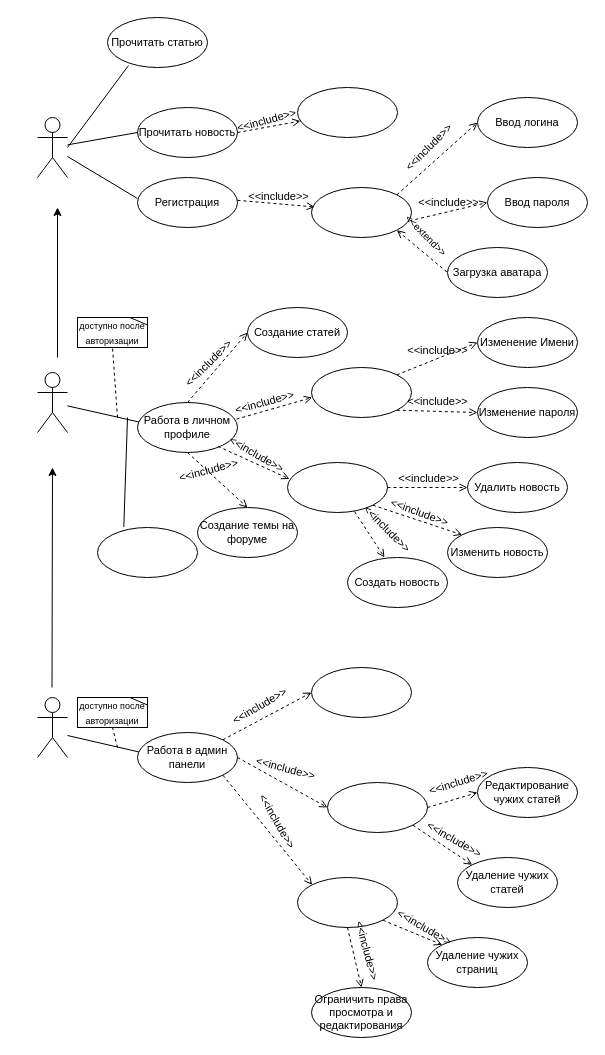
Some shapes in this 605 by 1055 pixel diagram are drawn without their labels. Each missing label, with the centre of its shape:
Админ: the point at 52,727
Гость: the point at 52,147
Заполнение формы: the point at 361,212
Изменение данных в профиле: the point at 361,392
Оставить комментарий: the point at 147,552
Пользователь: the point at 52,402
Прочитать комментарий к новости: the point at 347,112
Работа со списком созданных новостей: the point at 337,487
Удаление чужих комментариев: the point at 361,692
Управление пользователями: the point at 347,902
Управление статьями: the point at 377,807
